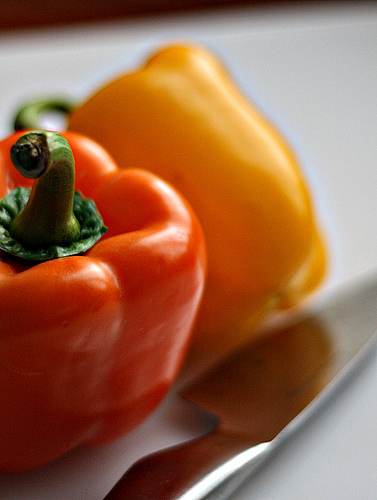capsicum: (16, 43, 324, 365), (0, 125, 204, 478)
